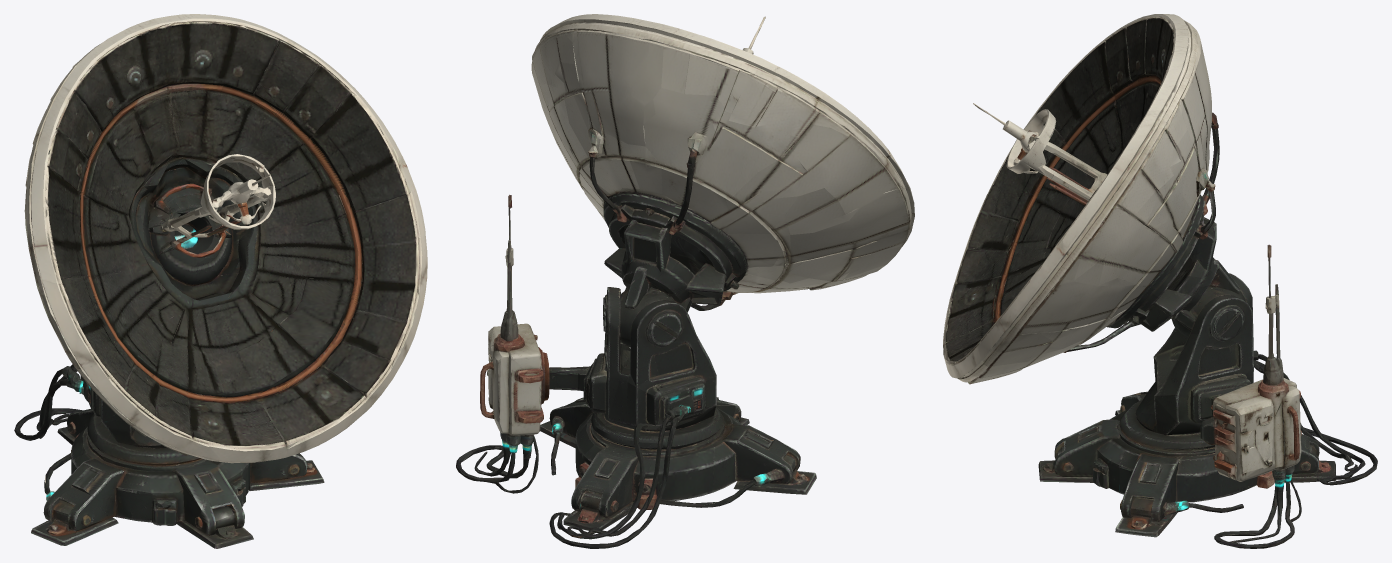
File: communications-array.glb
3 views of the same model, side by side, from view 1: azimuth 30°, elevation 25°; view 2: azimuth 150°, elevation 25°; view 3: azimuth 270°, elevation 25° (orthographic). The views are drawn at different scales.
Parts seen in each view (by area): view 1: Roof_Communications_000; view 2: Roof_Communications_000; view 3: Roof_Communications_000.
Boxes of the visible parts, x1,y1,x2,y2 form: Roof_Communications_000: (14, 14, 427, 548); Roof_Communications_000: (456, 14, 914, 548); Roof_Communications_000: (943, 14, 1377, 548).
Size of the model in its own units: 2.23 by 2.66 by 2.4.
Materials: 1 (1 with a texture image).
